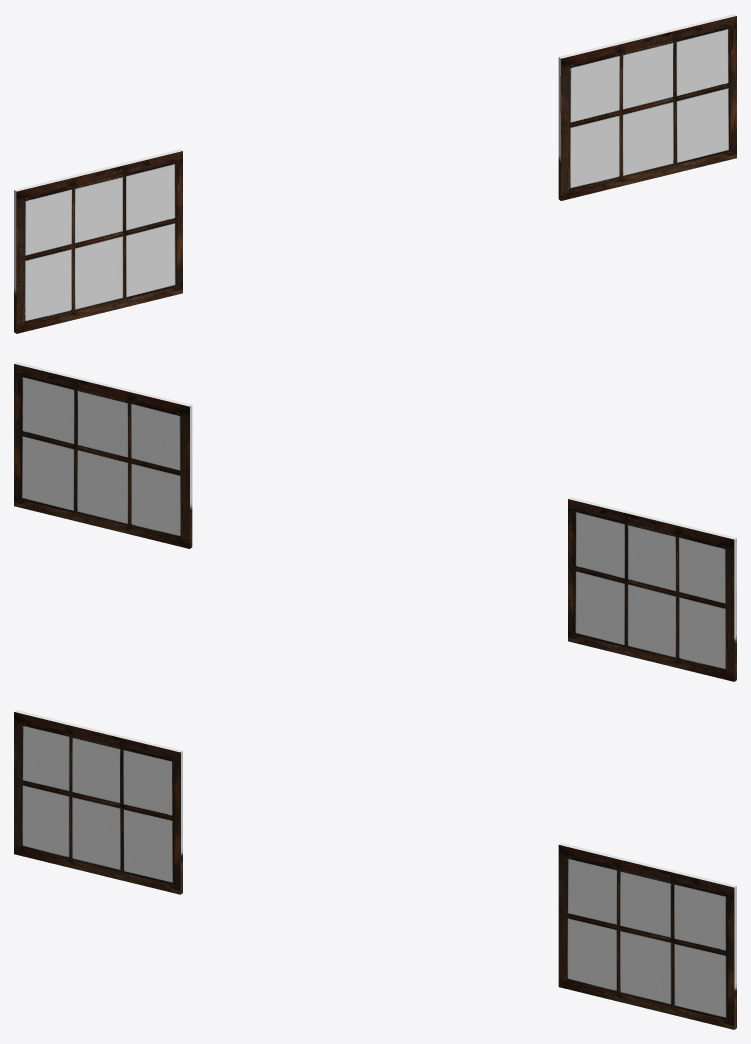
File: ventanas.obj
3 renders of one model, top to bottom at view 1: azimuth 30°, elevation 25°; view 2: azimuth 150°, elevation 25°; view 3: azimuth 330°, elevation 25°, orthographic.
Parts seen in each view (by area): view 1: pCube21, pCube20; view 2: pCube21, pCube20; view 3: pCube21, pCube20.
Part boxes in pixels (bbox=[...]): pCube21: bbox=[558, 14, 736, 200]; pCube20: bbox=[14, 149, 182, 333]; pCube21: bbox=[14, 362, 192, 548]; pCube20: bbox=[568, 497, 736, 681]; pCube21: bbox=[558, 843, 736, 1029]; pCube20: bbox=[14, 710, 182, 894].
Bounding box in the file's own units: 30.05 × 5.67 × 0.1828.
Materials: 1 (1 with a texture image).
